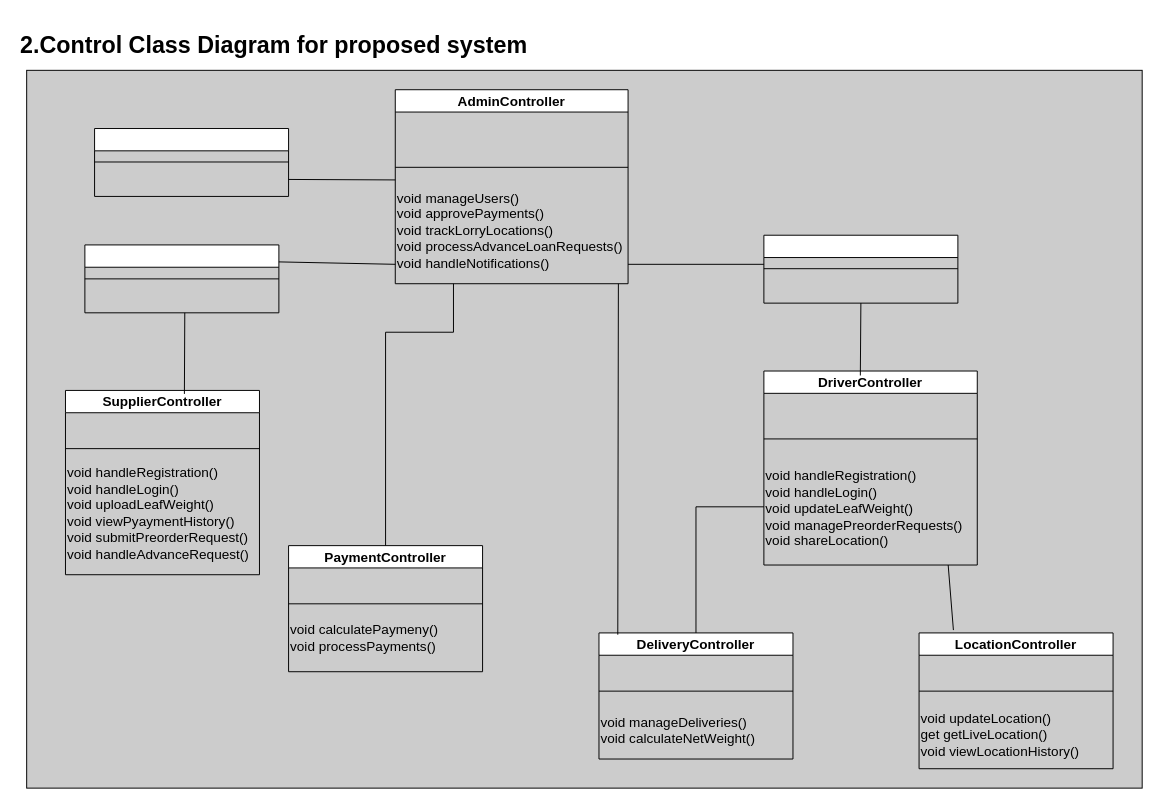
This 1159x805 diagram has some shape labels left out. Each missing label, with the centre of its shape:
"Admin" belongs at pixel 191 162.
"Driver" belongs at pixel 860 268.
"Supplier" belongs at pixel 181 278.
